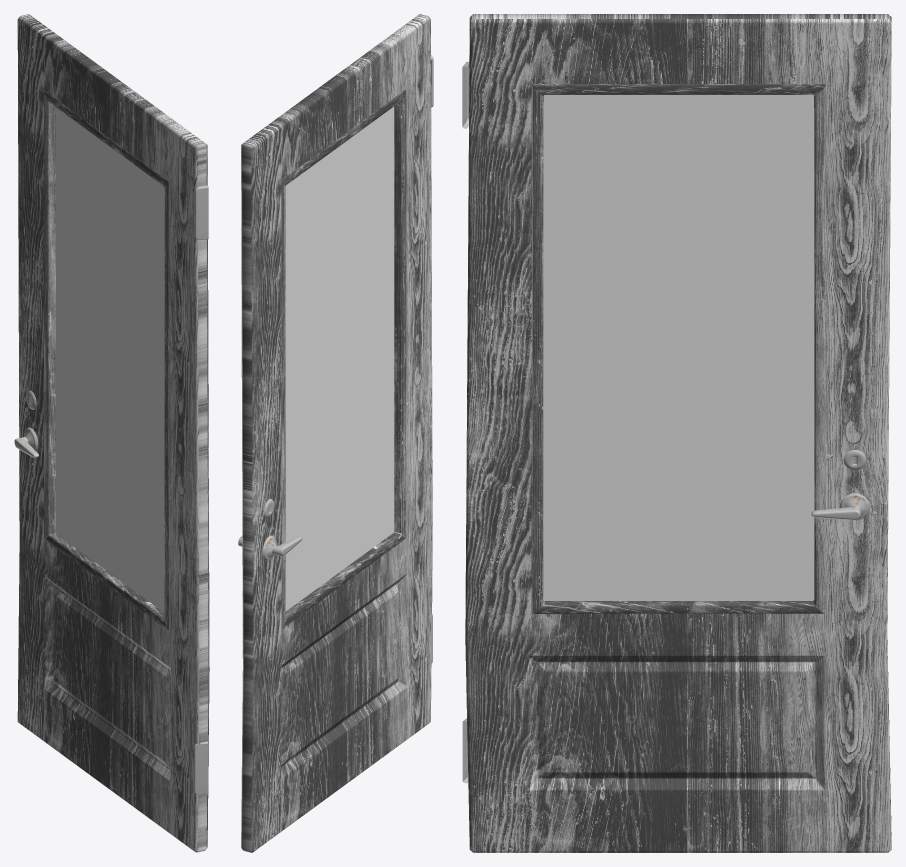
Rendered from SM_Door_Outside_A3.fbx.
3 views of the same model, side by side, from view 1: azimuth 30°, elevation 25°; view 2: azimuth 150°, elevation 25°; view 3: azimuth 270°, elevation 25° (orthographic). The views are drawn at different scales.
Visible parts, largest first — view 1: SM_Door_Outside_A3_LOD0; view 2: SM_Door_Outside_A3_LOD0; view 3: SM_Door_Outside_A3_LOD0.
Part boxes in pixels (<box>): SM_Door_Outside_A3_LOD0: <box>14,14,209,852</box>; SM_Door_Outside_A3_LOD0: <box>238,14,433,852</box>; SM_Door_Outside_A3_LOD0: <box>462,14,891,852</box>.
Size of the model in its own units: 14 by 98.93 by 212.
3 materials, 2 textured.
